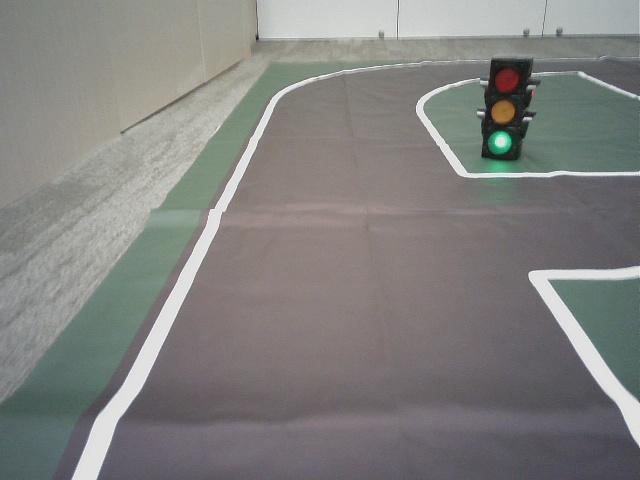green: (483, 63, 522, 156)
